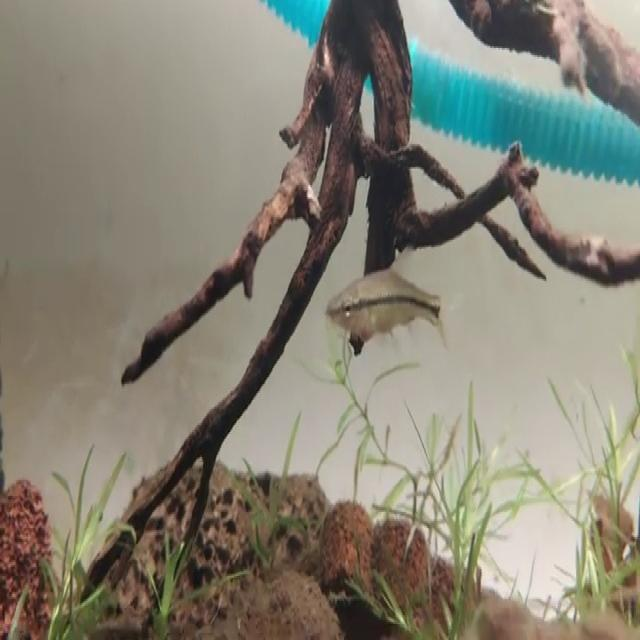Cakil Baligi: (322, 258, 451, 352)
